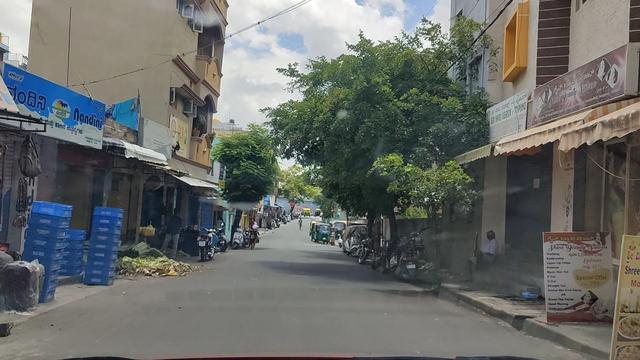LMV: (193, 226, 213, 261), (306, 224, 325, 245), (327, 227, 335, 248)
